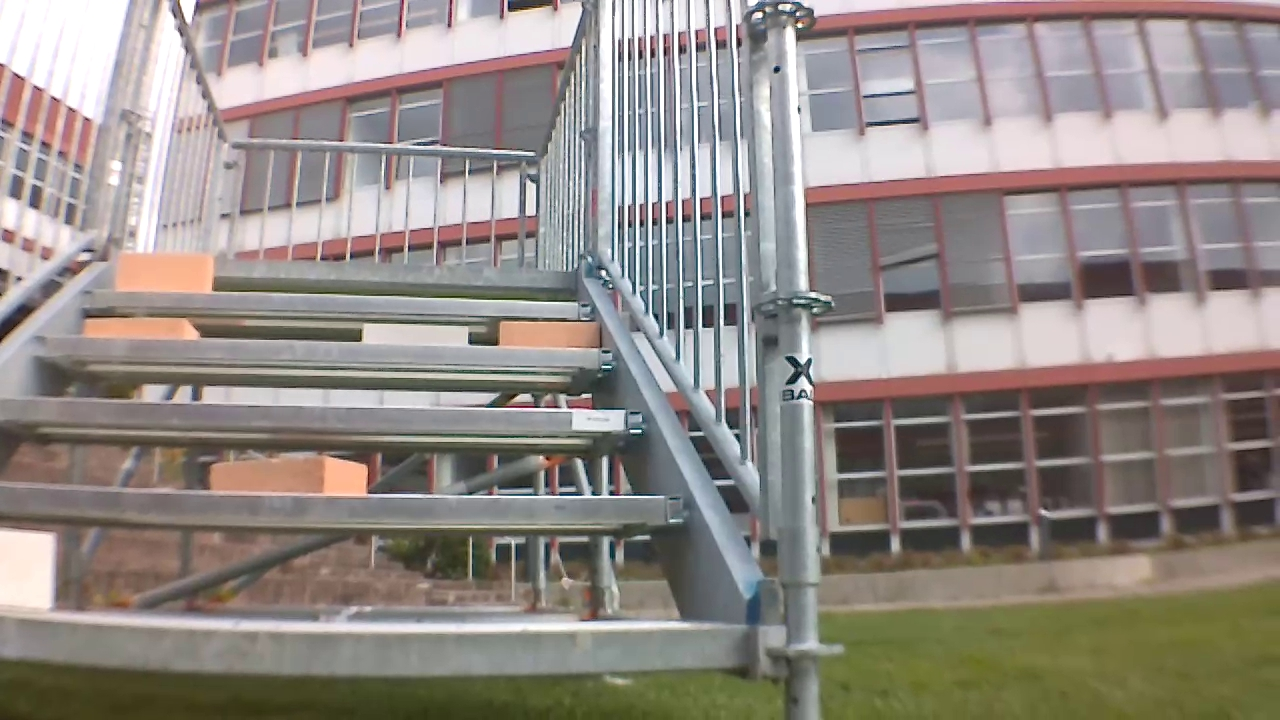brick: (211, 456, 367, 496), (1, 529, 54, 609), (116, 254, 213, 292), (501, 321, 601, 347), (86, 317, 195, 339), (364, 325, 468, 345)
edge: (1, 618, 744, 673), (1, 484, 689, 525), (2, 398, 645, 433), (36, 337, 615, 367), (83, 291, 594, 317), (100, 266, 579, 286)
stairs: (4, 4, 841, 715)
steps: (7, 246, 748, 683)
